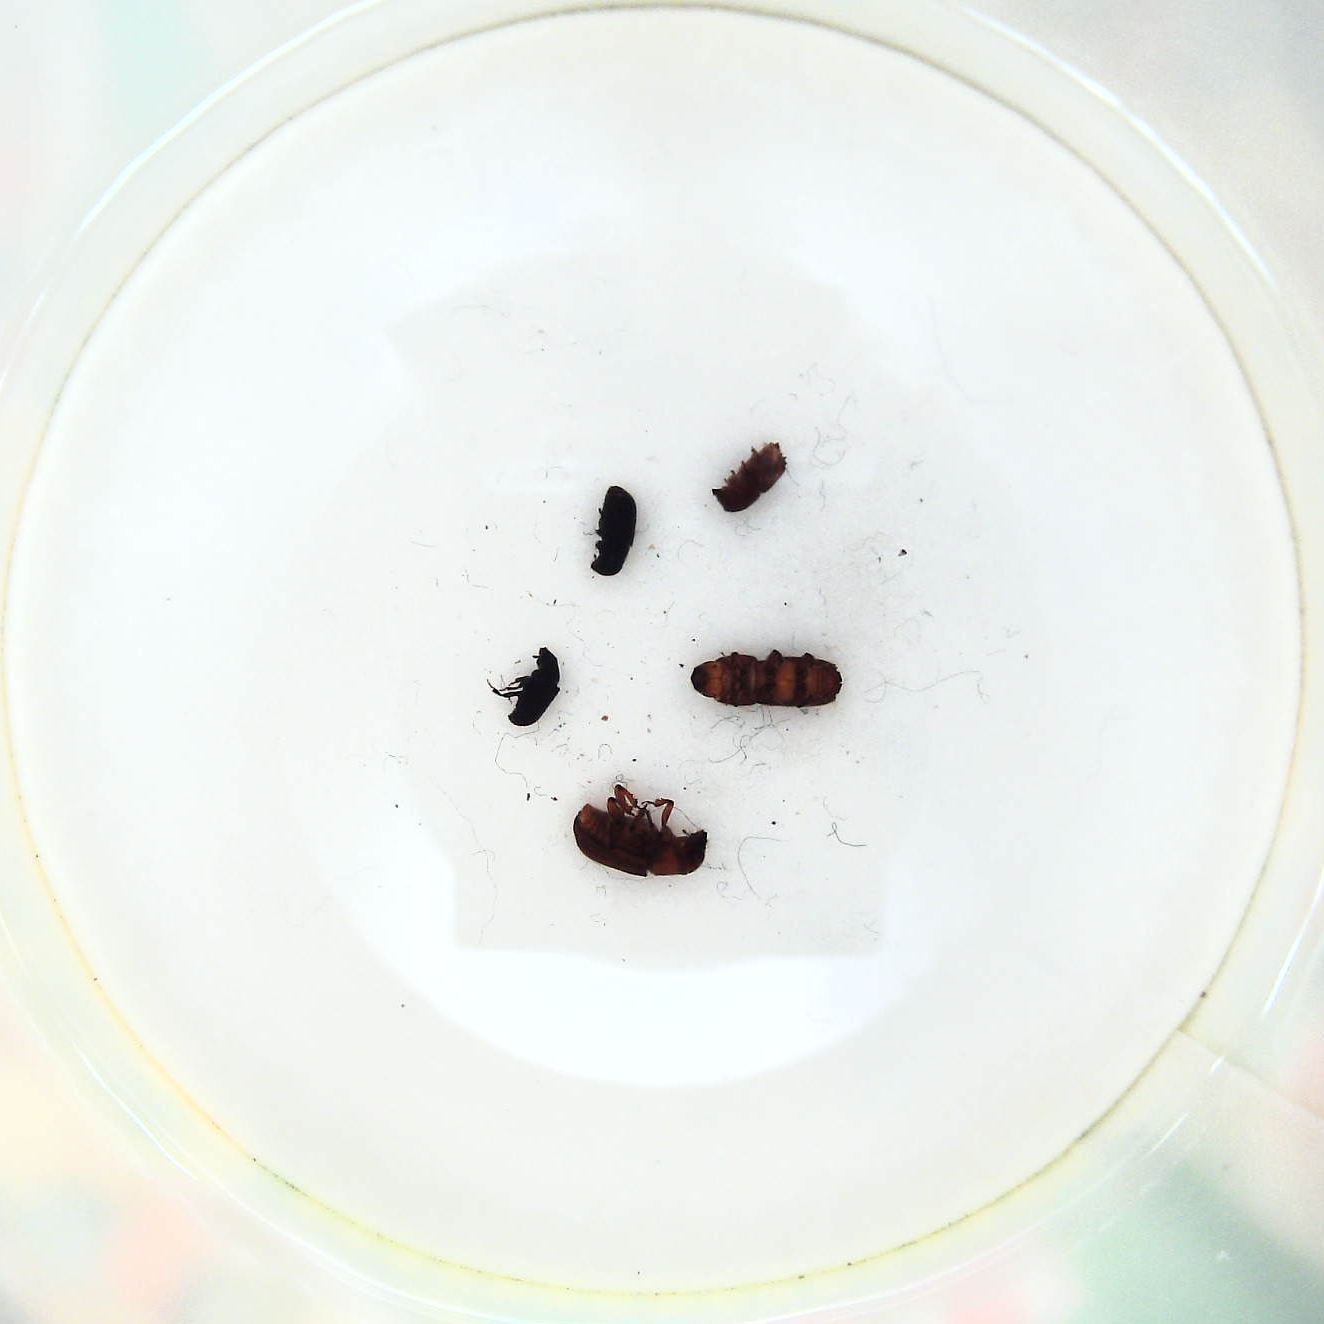Boerner: (680, 654, 851, 719)
Leconte: (571, 782, 714, 888)
armandi: (588, 483, 641, 580)
coleoptera: (480, 646, 561, 729)
linnaeus: (714, 441, 795, 519)
